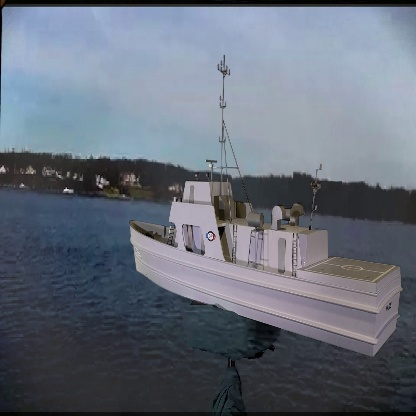YP689: (129, 60, 404, 357)
